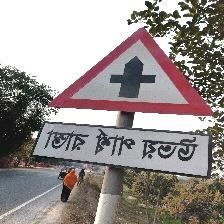Crossroad: (30, 19, 218, 181)
